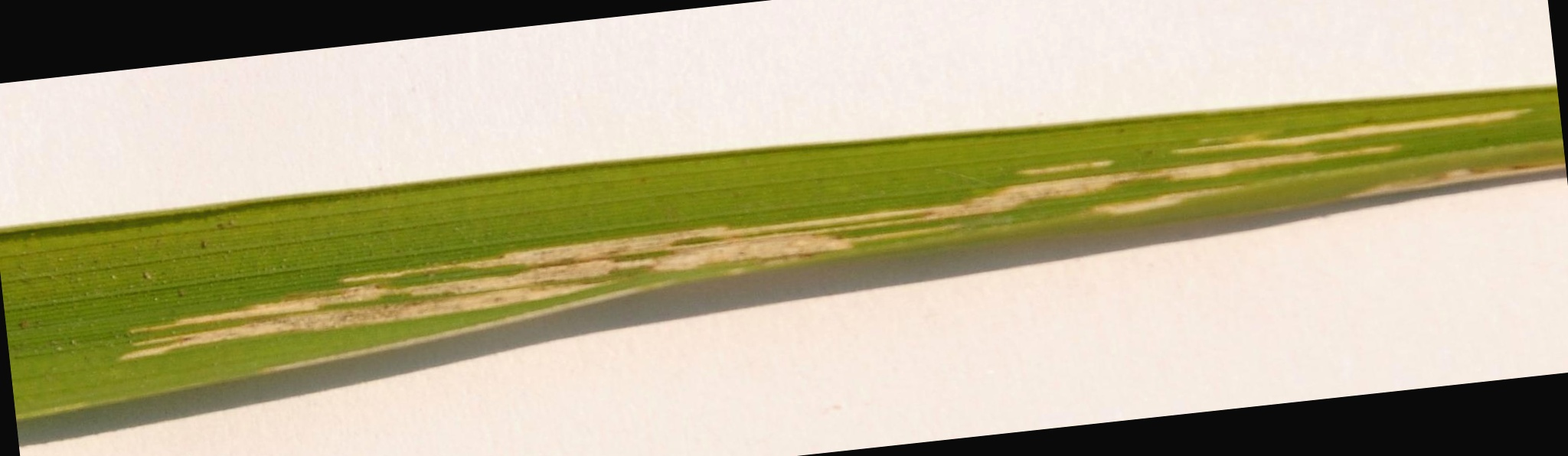Leaf_Blast: (83, 169, 1556, 322)
